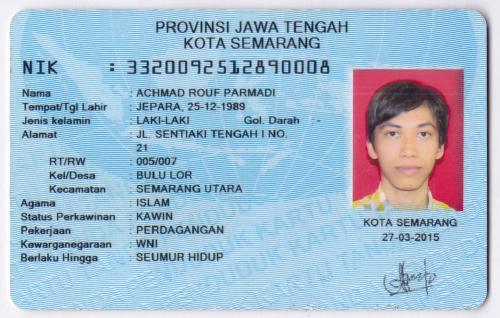ID-card: (9, 10, 483, 305)
